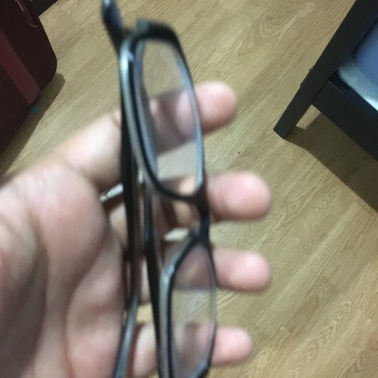glasses: (75, 27, 216, 378)
